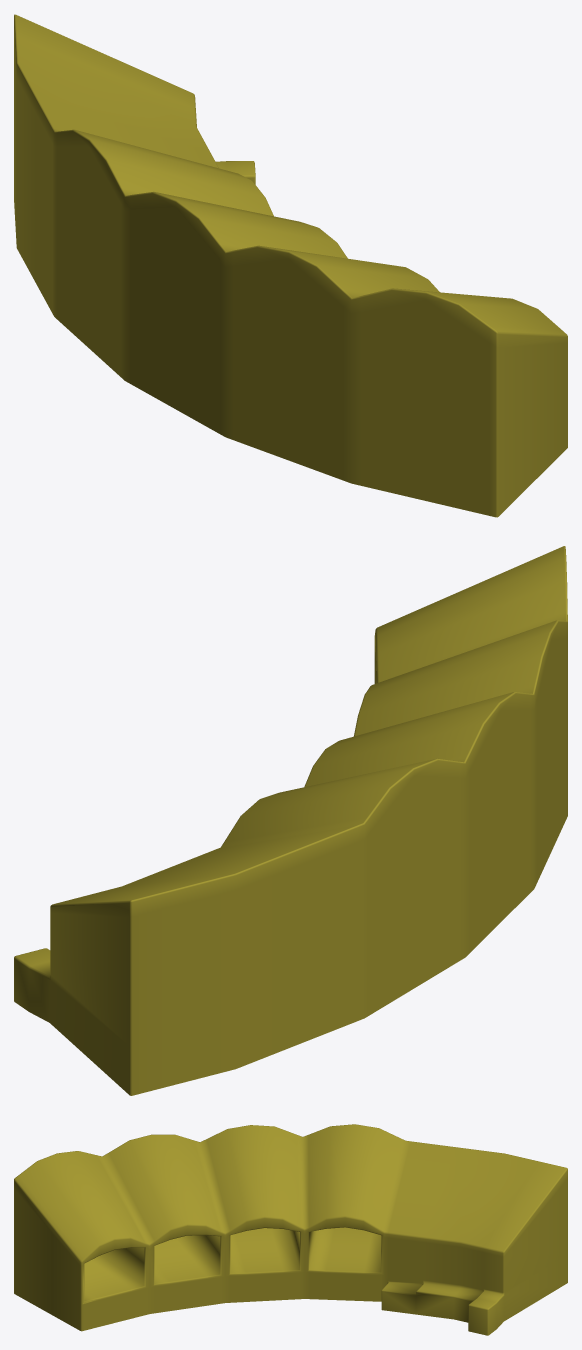
The model's file is LongHouse_UV.fbx.
3 views of the same model, one above another, from view 1: azimuth 30°, elevation 25°; view 2: azimuth 150°, elevation 25°; view 3: azimuth 270°, elevation 25° (orthographic). The views are drawn at different scales.
Parts seen in each view (by area): view 1: LongHouseProp; view 2: LongHouseProp; view 3: LongHouseProp.
Boxes of the visible parts, x1,y1,x2,y2 form: LongHouseProp: (14, 14, 567, 517); LongHouseProp: (14, 546, 567, 1095); LongHouseProp: (14, 1124, 567, 1335).
Bounding box in the file's own units: 23.98 × 17.13 × 66.59.
